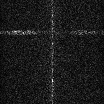wifi: (1, 30, 104, 34)
